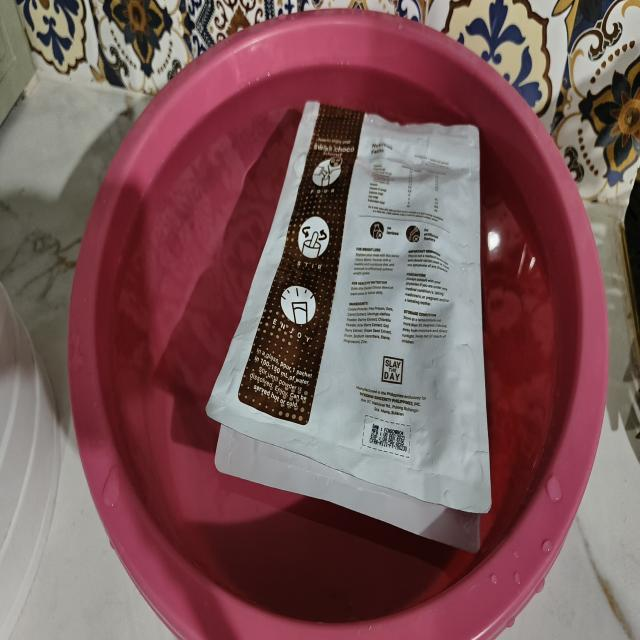Plastic Pouch: (206, 101, 491, 541)
